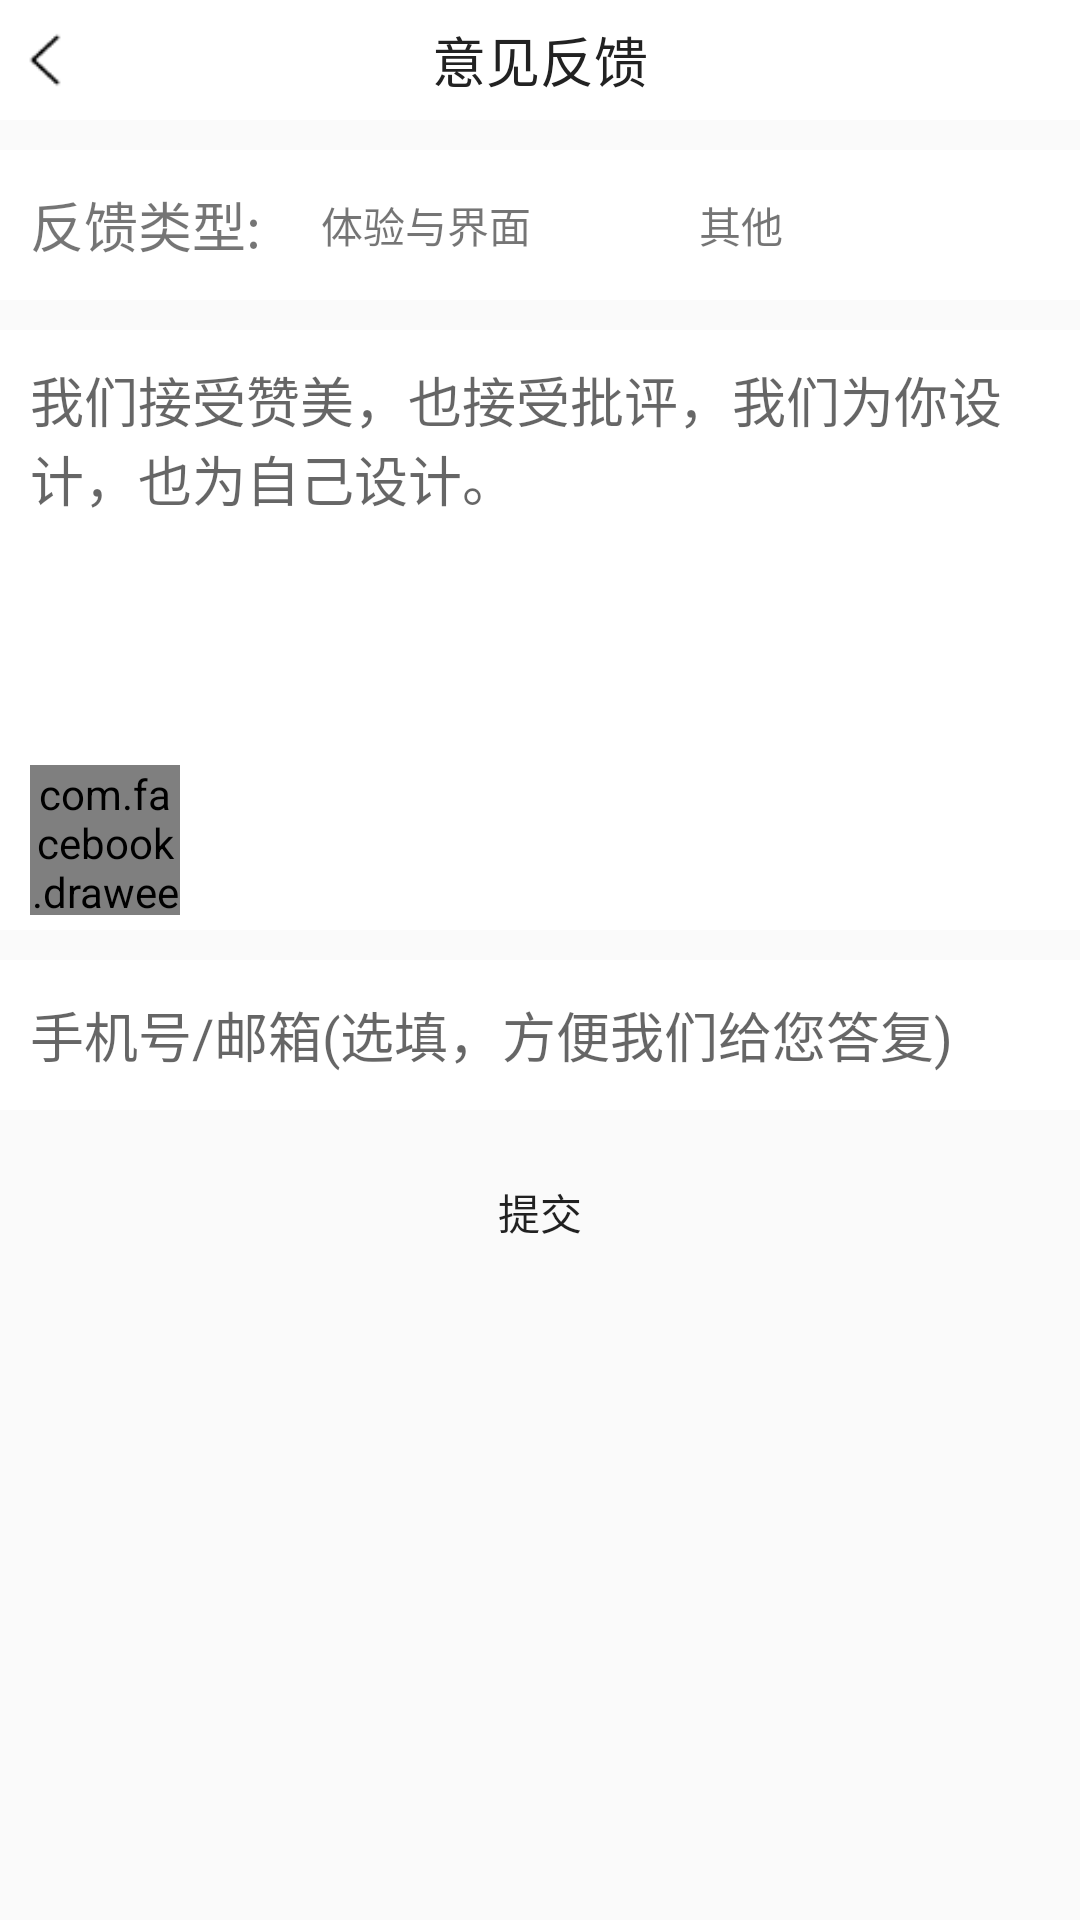

Point at icon controls on the screen. Image size 1080w x 1920h, points as (x,y).
to left: (45,60)
